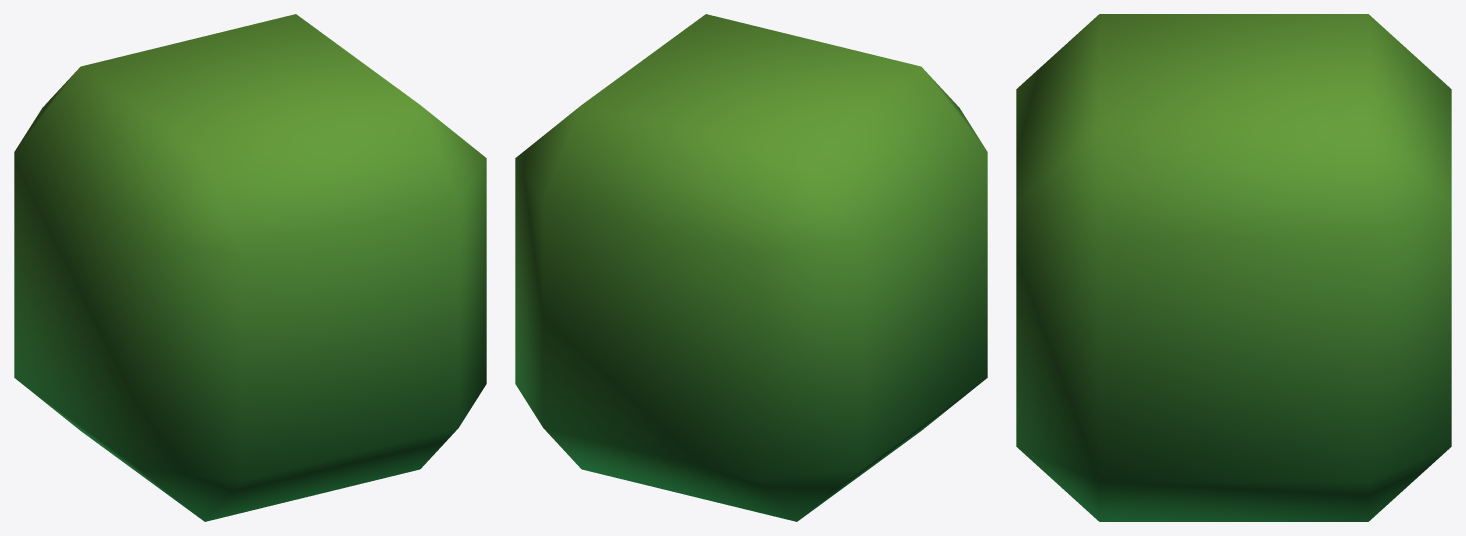
Rendered from bush.glb.
3 renders of one model, left to right at view 1: azimuth 30°, elevation 25°; view 2: azimuth 150°, elevation 25°; view 3: azimuth 270°, elevation 25°, orthographic. The views are drawn at different scales.
Visible parts, largest first — view 1: Bush_2_A_Color1; view 2: Bush_2_A_Color1; view 3: Bush_2_A_Color1.
Boxes of the visible parts, x1,y1,x2,y2 form: Bush_2_A_Color1: (14,14,486,521); Bush_2_A_Color1: (515,14,987,521); Bush_2_A_Color1: (1016,14,1451,521).
Bounding box in the file's own units: 0.528 × 0.528 × 0.528.
